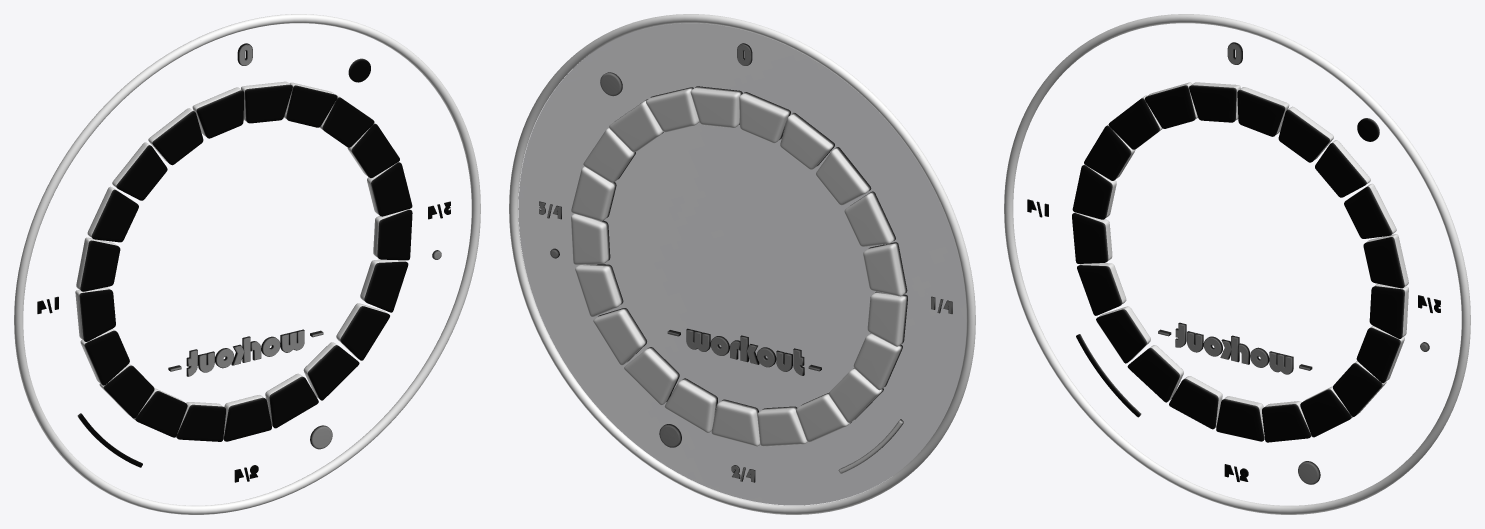
The model's file is eyepop_squats_ui_1-transformed.glb.
The picture shows the model from 3 angles, left to right: view 1: azimuth 30°, elevation 25°; view 2: azimuth 150°, elevation 25°; view 3: azimuth 330°, elevation 25°; orthographic projection.
Visible parts, largest first — view 1: bg; view 2: bg, tick_1, tick_5, tick_12, tick_15, tick_2, tick_4, tick_3, tick_13, tick_14, tick_6, tick_21 (+10 smaller); view 3: bg.
Boxes of the visible parts, left/top/right/bottom form: bg: left=14, top=14, right=480, bottom=514; bg: left=509, top=14, right=975, bottom=514; tick_1: left=739, top=93, right=788, bottom=143; tick_5: left=863, top=244, right=904, bottom=296; tick_12: left=664, top=380, right=715, bottom=432; tick_15: left=575, top=265, right=620, bottom=317; tick_2: left=780, top=114, right=832, bottom=169; tick_4: left=844, top=193, right=893, bottom=246; tick_3: left=816, top=148, right=868, bottom=205; tick_13: left=624, top=348, right=677, bottom=405; tick_14: left=593, top=309, right=644, bottom=365; tick_6: left=867, top=293, right=905, bottom=346; tick_21: left=690, top=88, right=740, bottom=127; bg: left=1004, top=14, right=1470, bottom=514.
Size of the model in its own units: 12.41 by 12.41 by 0.5853.
2 materials, 1 textured.
